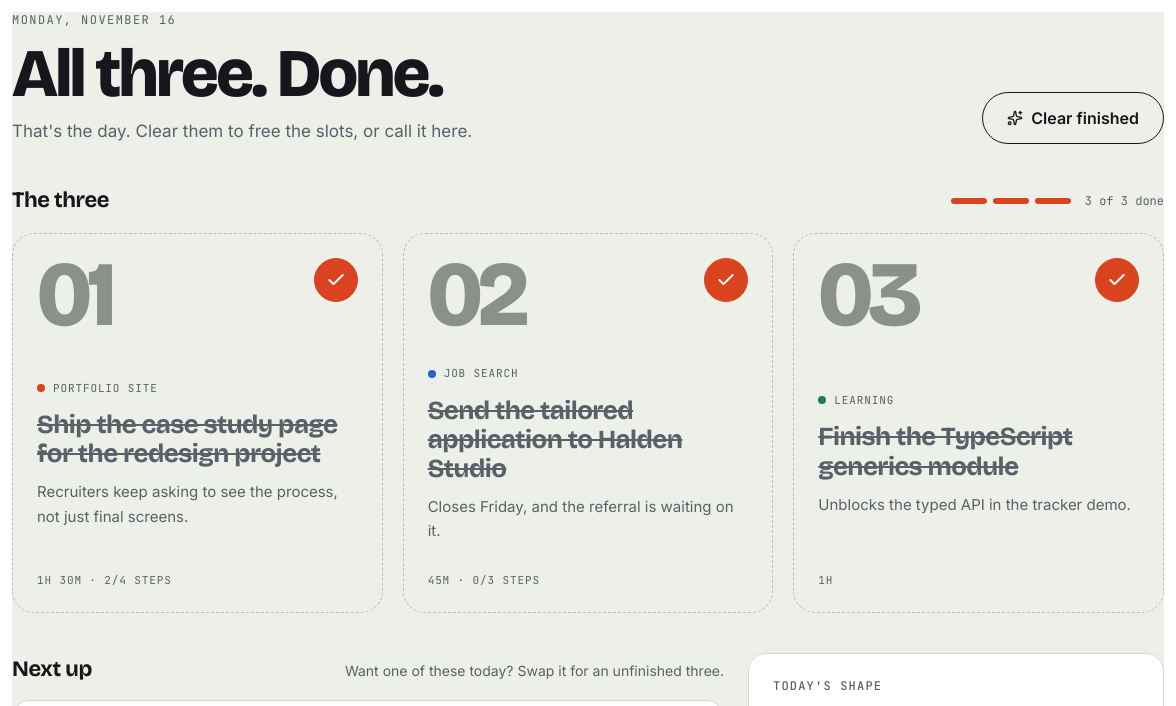
it: Today › celebrates when all three are done and clears them for a new day
This screenshot has width=1176, height=706.
Expected: the heading "All three. Done." is shown, [12, 42, 472, 107]
Step 1. Click the button "Clear finished" → (1073, 118), box [982, 92, 1164, 144]
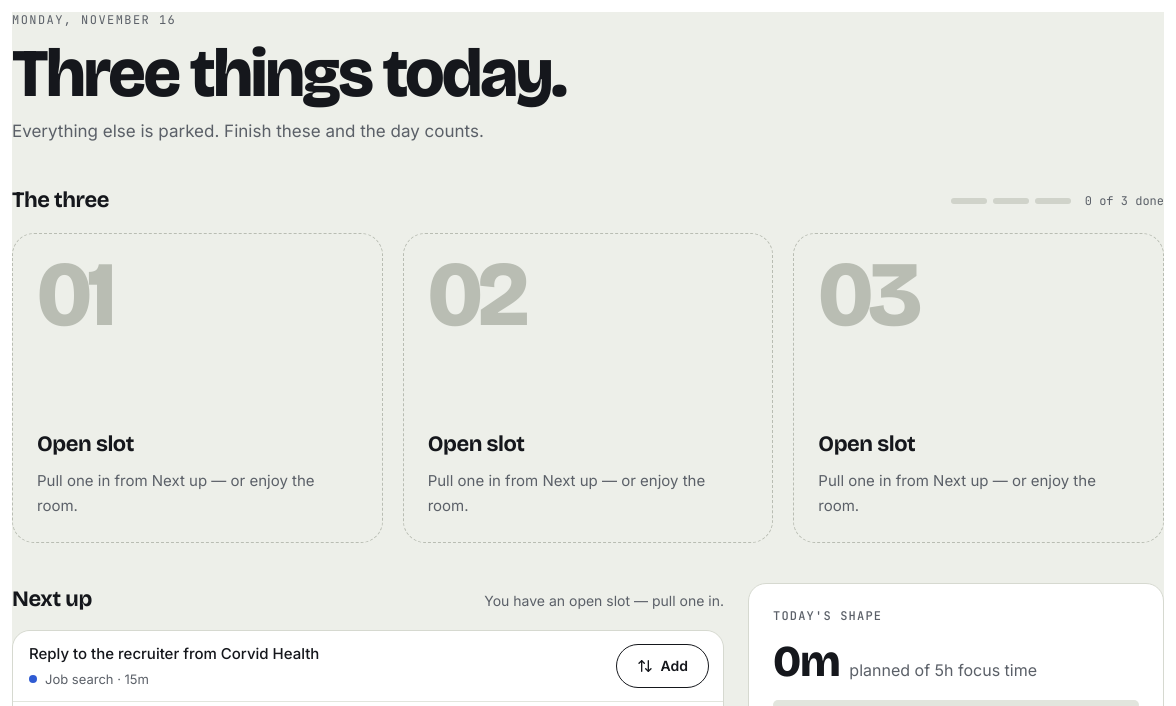
Expected: the number of headings "Open slot" is 3, [37, 431, 134, 457]; [428, 431, 525, 457]; [818, 431, 915, 457]
